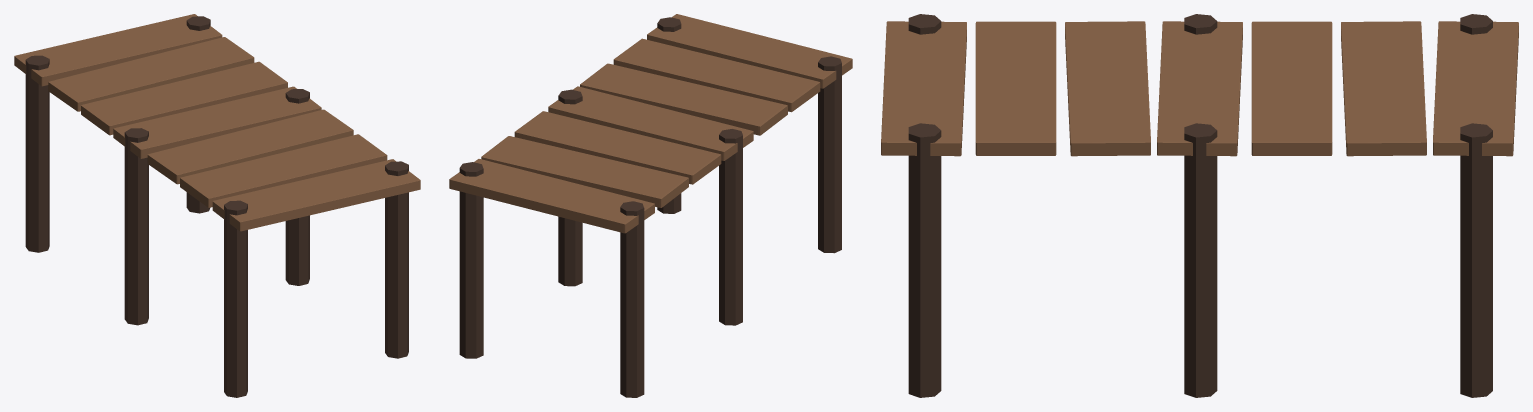
The model's file is pier.glb.
3 renders of one model, left to right at view 1: azimuth 30°, elevation 25°; view 2: azimuth 150°, elevation 25°; view 3: azimuth 270°, elevation 25°, orthographic. The views are drawn at different scales.
Parts seen in each view (by area): view 1: Cube, Cube.002, Cube.005, Cube.001, Cube.004, Cube.003, Cube.006, Cylinder.002, Cylinder.004, Cylinder, Cylinder.001, Cylinder.003 (+1 smaller); view 2: Cube.006, Cube.002, Cube.005, Cube.004, Cube.001, Cube.003, Cube, Cylinder.004, Cylinder.002, Cylinder.005, Cylinder, Cylinder.003 (+1 smaller); view 3: Cube.001, Cube.004, Cube.002, Cube.005, Cube, Cube.003, Cube.006, Cylinder.001, Cylinder.003, Cylinder.005, Cylinder, Cylinder.002 (+1 smaller).
Boxes of the visible parts, box(x1,y1,x2,y2) form: Cube: box(212, 159, 420, 231); Cube.002: box(147, 109, 353, 184); Cube.005: box(48, 37, 254, 111); Cube.001: box(180, 134, 387, 207); Cube.004: box(81, 61, 287, 135); Cube.003: box(113, 86, 321, 158); Cube.006: box(14, 14, 222, 86); Cylinder.002: box(124, 128, 148, 325); Cylinder.004: box(25, 55, 49, 252); Cylinder: box(224, 200, 247, 397); Cylinder.001: box(385, 161, 408, 358); Cylinder.003: box(285, 89, 309, 285); Cube.006: box(449, 159, 654, 233); Cube.002: box(580, 63, 787, 135); Cube.005: box(481, 136, 688, 207); Cube.004: box(514, 111, 721, 184); Cube.001: box(613, 38, 820, 112); Cube.003: box(548, 86, 753, 160); Cube: box(647, 14, 852, 88); Cylinder.004: box(620, 201, 644, 397); Cylinder.002: box(719, 129, 742, 325); Cylinder.005: box(459, 162, 483, 358); Cylinder: box(818, 56, 841, 253); Cylinder.003: box(558, 89, 582, 286); Cube.001: box(975, 21, 1056, 155); Cube.004: box(1251, 21, 1332, 155); Cube.002: box(1065, 21, 1150, 156); Cube.005: box(1341, 21, 1426, 156); Cube: box(881, 21, 966, 156); Cube.003: box(1157, 21, 1242, 156); Cube.006: box(1433, 21, 1518, 156); Cylinder.001: box(908, 123, 941, 397); Cylinder.003: box(1184, 123, 1217, 397); Cylinder.005: box(1460, 123, 1492, 397); Cylinder: box(908, 14, 941, 34); Cylinder.002: box(1184, 14, 1217, 34).
Bounding box in the file's own units: 1.02 × 1 × 2.22.
